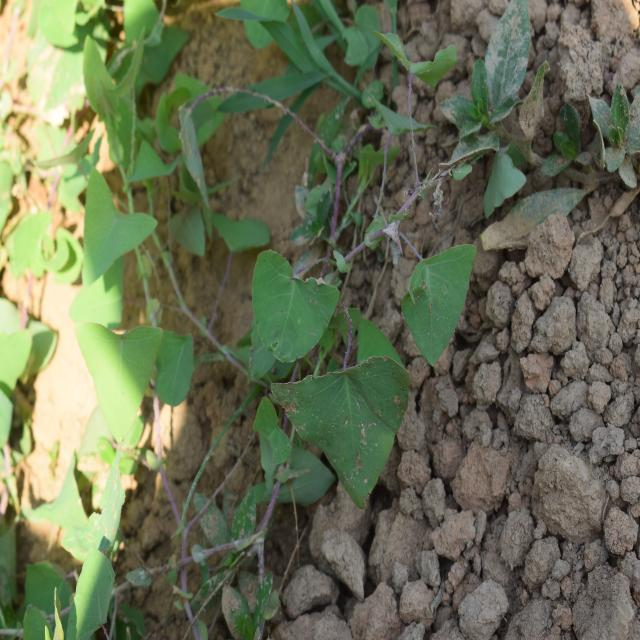Asiatic_Smartweed: (59, 58, 197, 424), (254, 213, 408, 522)
